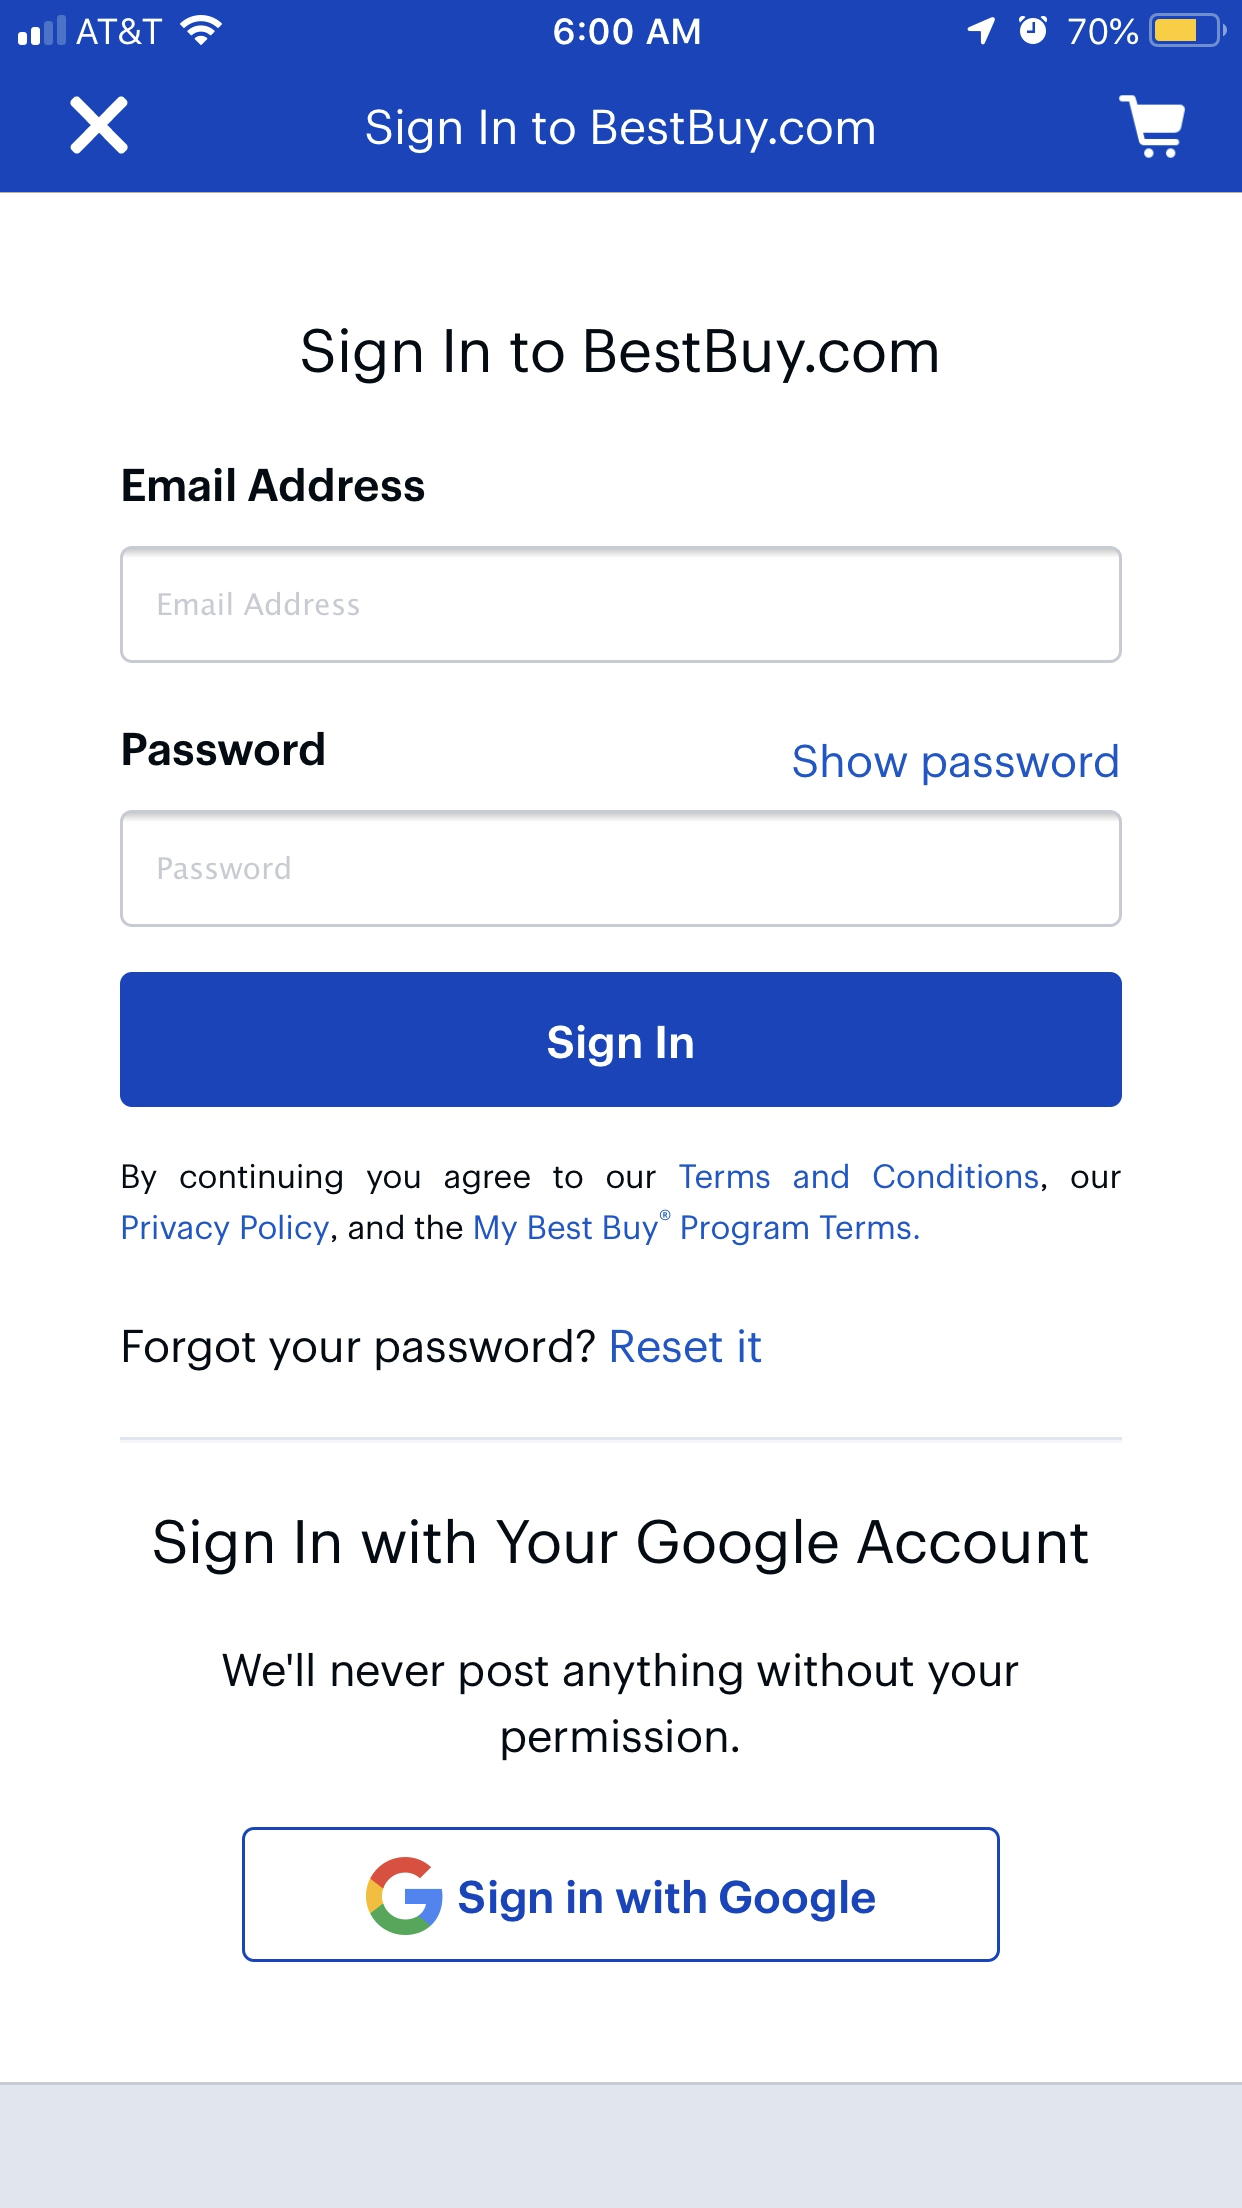EditText: (120, 810, 1122, 928), (121, 546, 1124, 664)
Icon: (1119, 96, 1186, 161), (70, 96, 129, 156)
Text: (221, 1651, 1019, 1761), (123, 1163, 1122, 1247), (155, 1518, 1089, 1576), (302, 328, 939, 385), (124, 1328, 761, 1372), (365, 109, 875, 155), (792, 745, 1118, 787), (124, 469, 426, 503), (123, 732, 325, 767), (159, 591, 359, 617), (159, 855, 291, 881)
TextButton: (121, 972, 1124, 1109), (243, 1827, 1001, 1962)
UpperTaskBar: (2, 2, 1242, 49)
